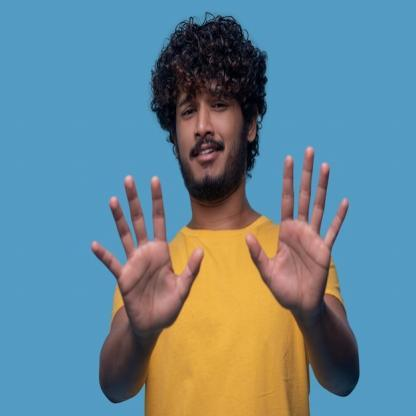stop: (90, 171, 206, 336), (243, 144, 351, 320)
